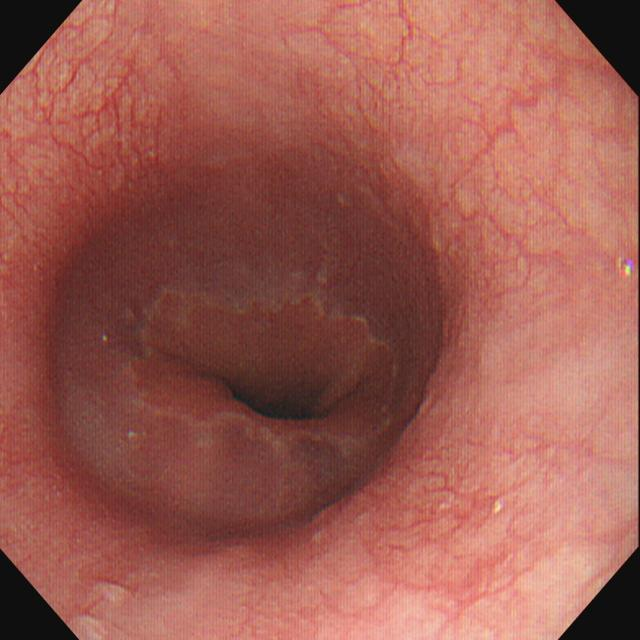I: (117, 276, 407, 473)
